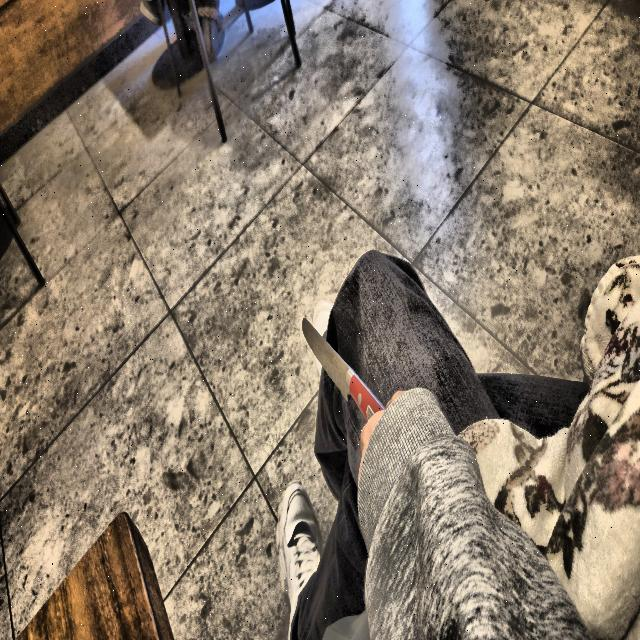knife: (300, 313, 388, 428)
